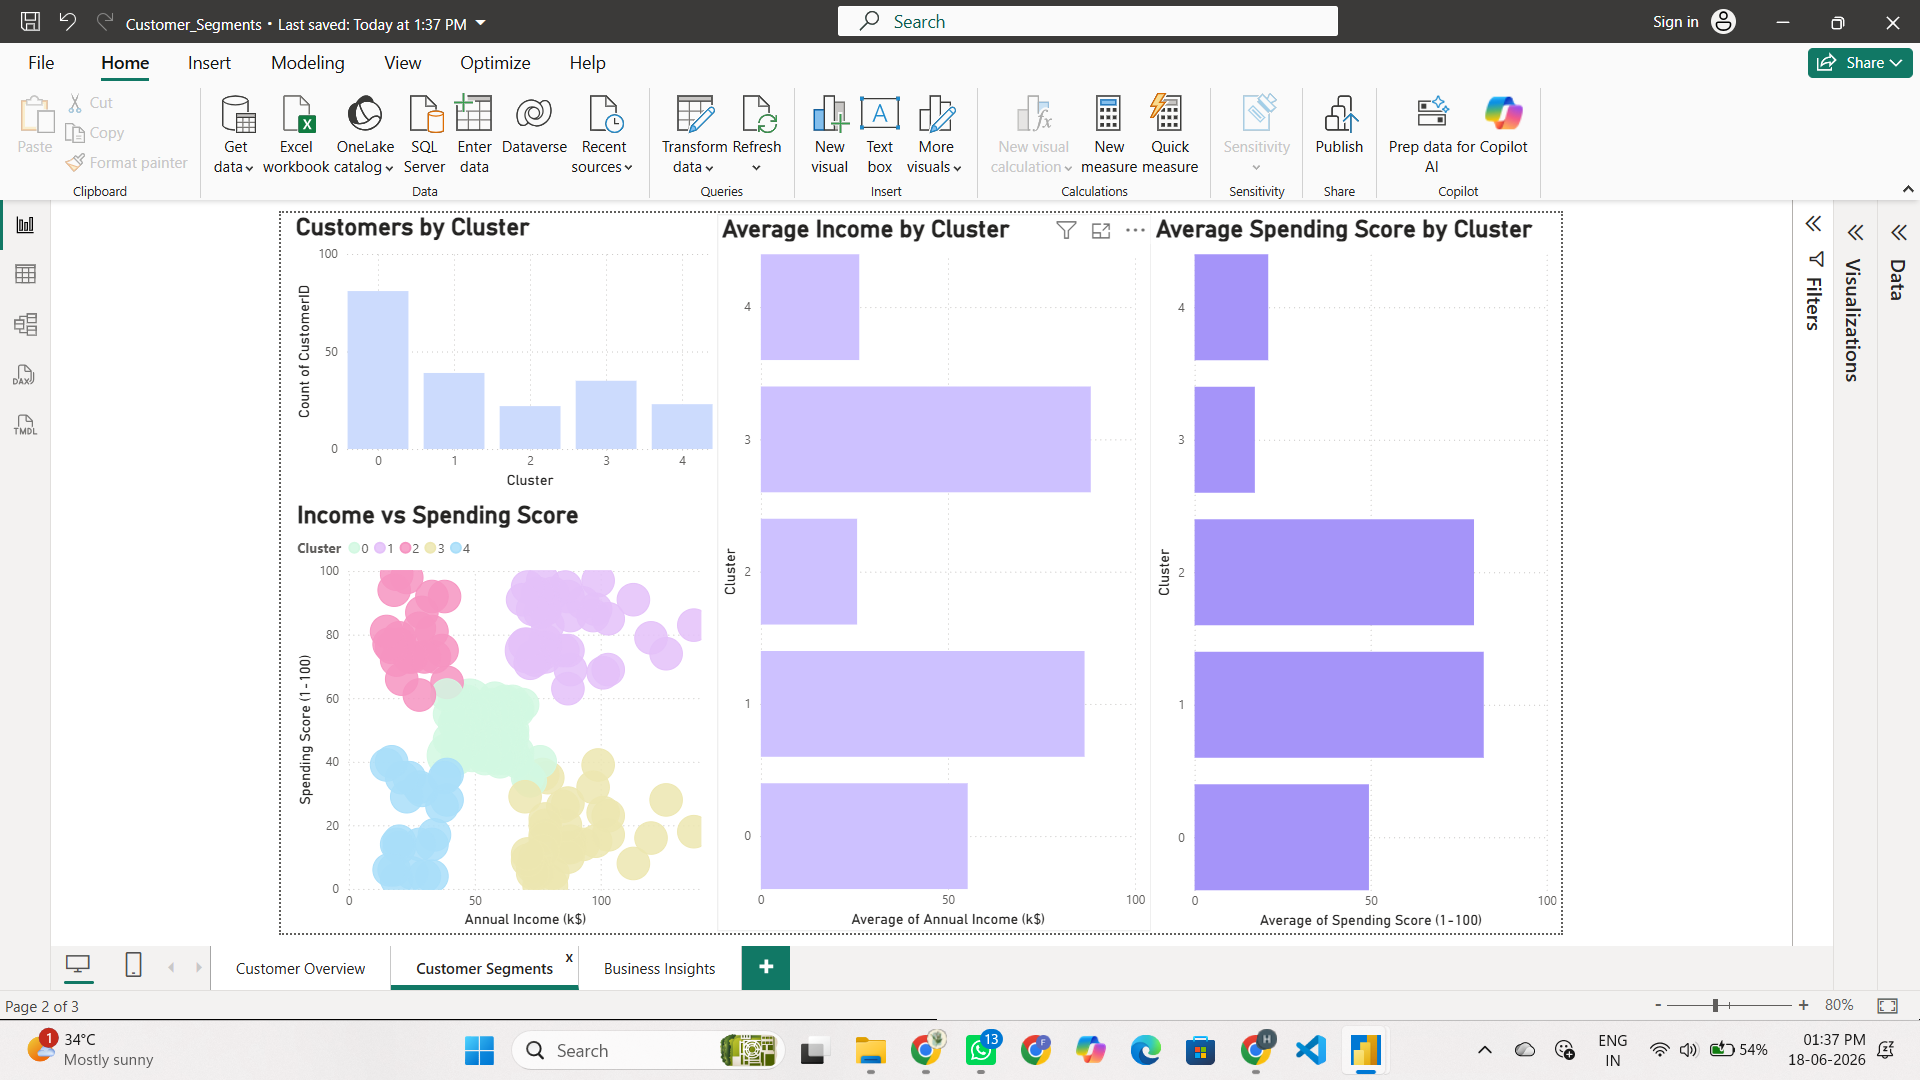

The page's visual inventory and layout, read from the dashboard file:
{"tool":"powerbi","page":{"name":"Customer Segments","canvas":[1280,720],"ordinal":1},"visuals":[{"type":"clusteredColumnChart","title":"Customers by Cluster","fields":{"Category":["Customer_Segments.Cluster"],"Y":["CountNonNull(Customer_Segments.CustomerID)"]},"box":[9.8,0,426.8,280],"z":0},{"type":"scatterChart","title":"Income vs Spending Score","fields":{"X":["Customer_Segments.Annual Income (k$)"],"Y":["Customer_Segments.Spending Score (1-100)"],"Series":["Customer_Segments.Cluster"],"Size":["CountNonNull(Customer_Segments.CustomerID)"]},"box":[11.7,288.1,424.3,432.1],"z":1000},{"type":"clusteredBarChart","title":"Average Income by Cluster","fields":{"Category":["Customer_Segments.Cluster"],"Y":["Avg(Customer_Segments.Annual Income (k$))"]},"box":[436.6,1.2,432.9,717.8],"z":2000},{"type":"clusteredBarChart","title":"Average Spending Score by Cluster","fields":{"Category":["Customer_Segments.Cluster"],"Y":["Avg(Customer_Segments.Spending Score (1-100))"]},"box":[869.4,1.2,410.9,719],"z":3000}]}

Visuals, with their boxes on the page's 1280x720 design canvas (x1, y1, x2, y2). These are canvas units, not pixel positions in the 1920x1080 screenshot, which may show the page scaled, cropped or inside an application window:
"Customers by Cluster" clusteredColumnChart: locate(10, 0, 437, 280)
"Income vs Spending Score" scatterChart: locate(12, 288, 436, 720)
"Average Income by Cluster" clusteredBarChart: locate(437, 1, 870, 719)
"Average Spending Score by Cluster" clusteredBarChart: locate(869, 1, 1280, 720)
